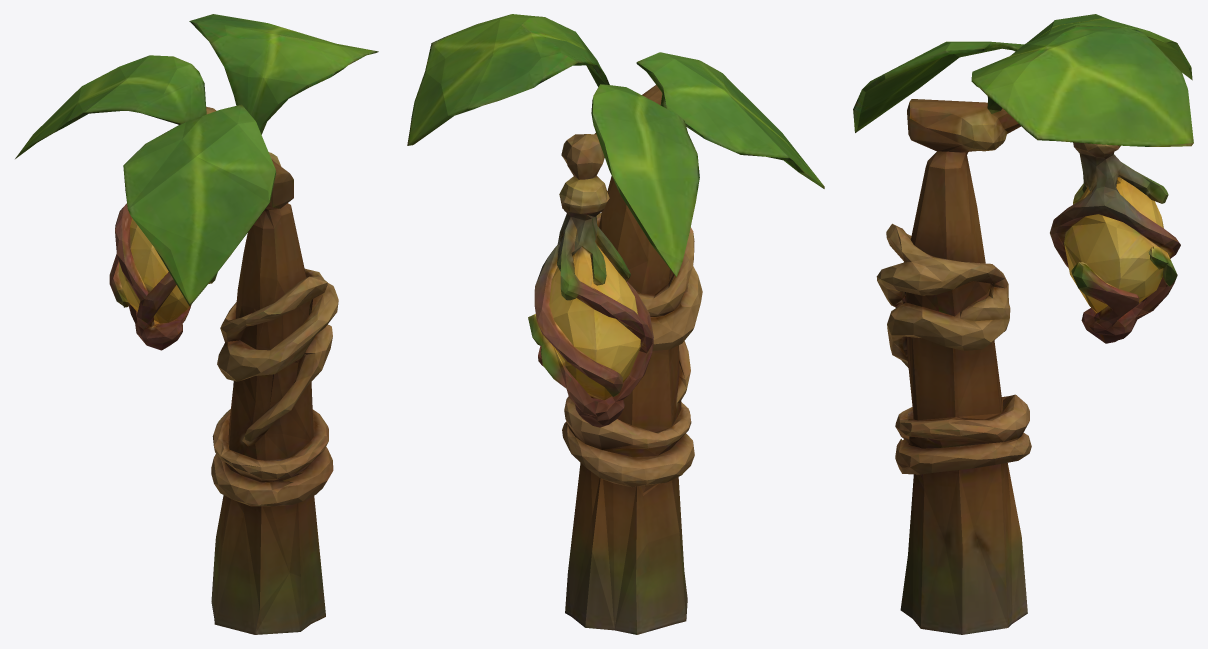
Rendered from d_canopee_poteau.glb.
3 renders of one model, left to right at view 1: azimuth 30°, elevation 25°; view 2: azimuth 150°, elevation 25°; view 3: azimuth 270°, elevation 25°, orthographic. The views are drawn at different scales.
Parts seen in each view (by area): view 1: geometry_0; view 2: geometry_0; view 3: geometry_0.
Boxes of the visible parts, x1,y1,x2,y2 form: geometry_0: (15,14,378,634); geometry_0: (407,14,824,634); geometry_0: (853,14,1193,634).
Size of the model in its own units: 0.571 by 1 by 0.5267.
1 material, 1 textured.
